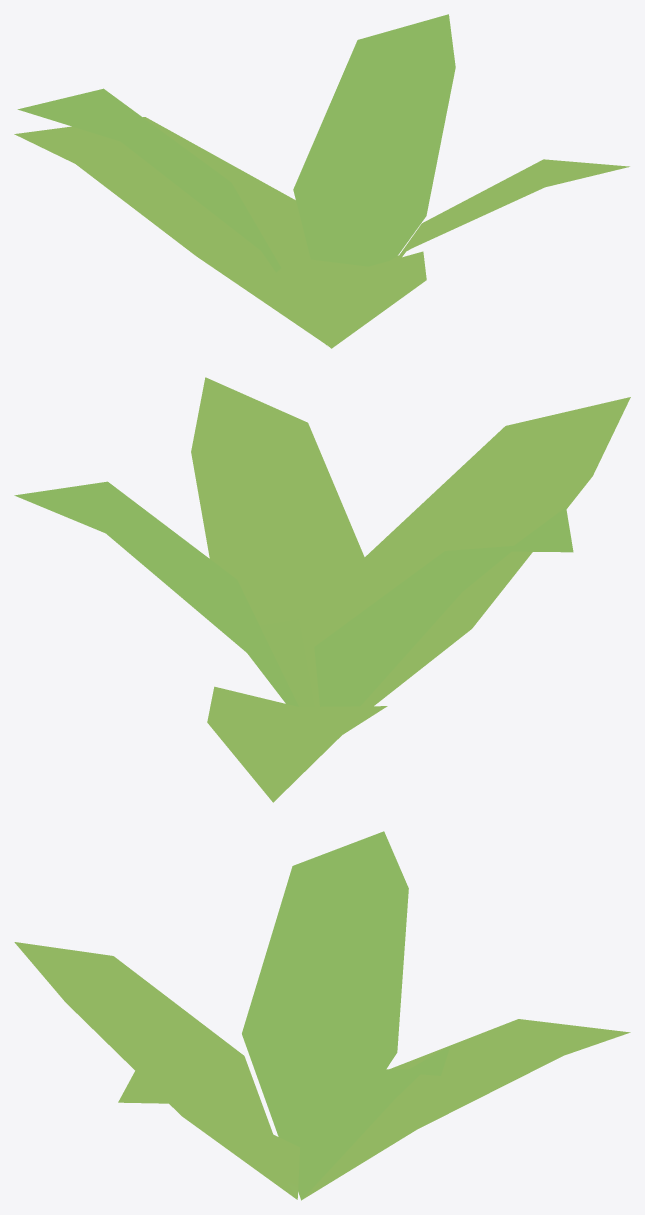
Rendered from Plant_k_OneS_05.fbx.
3 renders of one model, top to bottom at view 1: azimuth 30°, elevation 25°; view 2: azimuth 150°, elevation 25°; view 3: azimuth 270°, elevation 25°, orthographic. The views are drawn at different scales.
Visible parts, largest first — view 1: Plant_k_OneS_05; view 2: Plant_k_OneS_05; view 3: Plant_k_OneS_05.
Boxes of the visible parts, x1,y1,x2,y2 form: Plant_k_OneS_05: [14, 14, 629, 348]; Plant_k_OneS_05: [14, 377, 630, 802]; Plant_k_OneS_05: [14, 831, 630, 1200].
Size of the model in its own units: 0.377 by 0.2074 by 0.4663.
